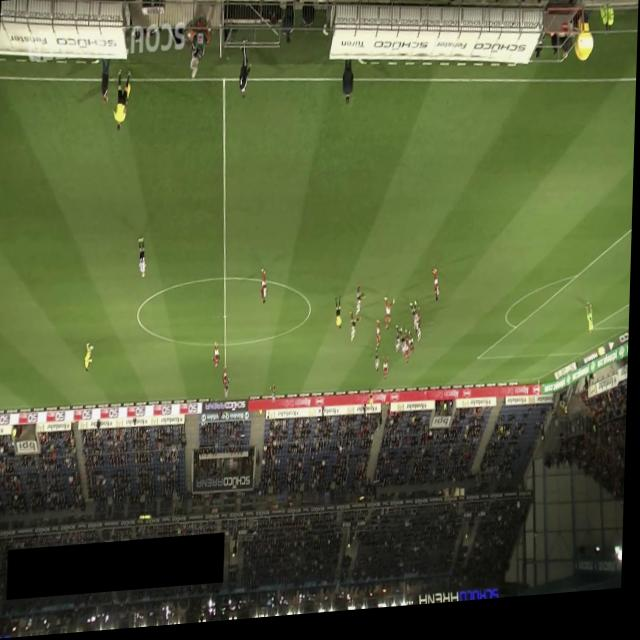goalkeeper: (585, 311, 596, 346), (85, 342, 94, 373)
player: (138, 238, 148, 281), (350, 316, 363, 349), (384, 302, 396, 336), (356, 289, 367, 323), (432, 274, 441, 309), (261, 271, 269, 308), (213, 344, 222, 372), (396, 330, 404, 360), (411, 306, 419, 336), (401, 333, 408, 362), (383, 360, 390, 387), (415, 313, 422, 339), (417, 325, 424, 350), (375, 350, 381, 378), (410, 336, 417, 360), (225, 380, 232, 403), (405, 344, 411, 370), (377, 325, 382, 354), (225, 368, 231, 392), (271, 387, 278, 407)
referee: (112, 70, 131, 134), (336, 301, 344, 335), (370, 394, 375, 412)
